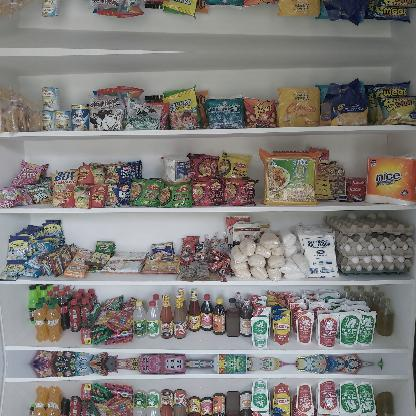Lady-s-Choice: (162, 156, 190, 186)
